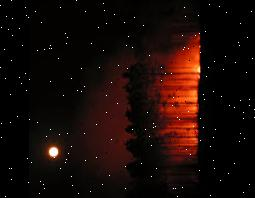fire: (188, 33, 200, 86), (186, 92, 197, 126)
